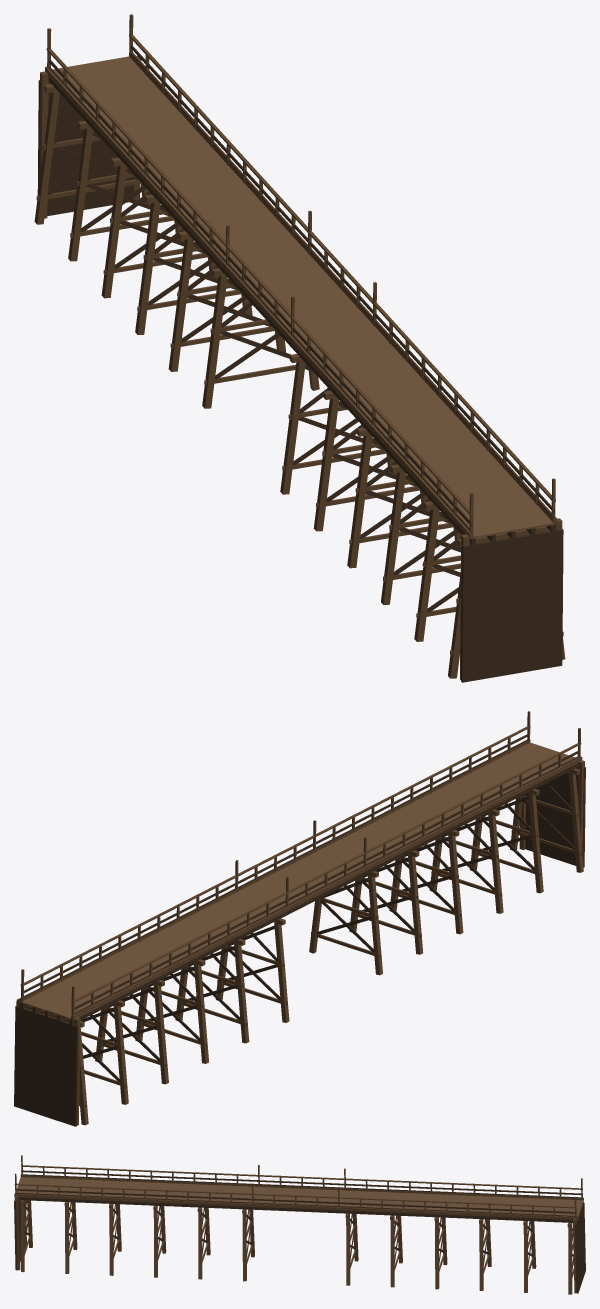
File: SM_Bridge_ToSprings.fbx
3 renders of one model, top to bottom at view 1: azimuth 30°, elevation 25°; view 2: azimuth 150°, elevation 25°; view 3: azimuth 270°, elevation 25°, orthographic. The views are drawn at different scales.
Visible parts, largest first — view 1: SM_Bridge_ToSprings; view 2: SM_Bridge_ToSprings; view 3: SM_Bridge_ToSprings.
Boxes of the visible parts, bbox=[...] form: SM_Bridge_ToSprings: bbox=[34, 14, 565, 682]; SM_Bridge_ToSprings: bbox=[14, 711, 585, 1126]; SM_Bridge_ToSprings: bbox=[14, 1155, 585, 1294].
Bounding box in the file's own units: 12.67 × 10.5 × 51.97.
